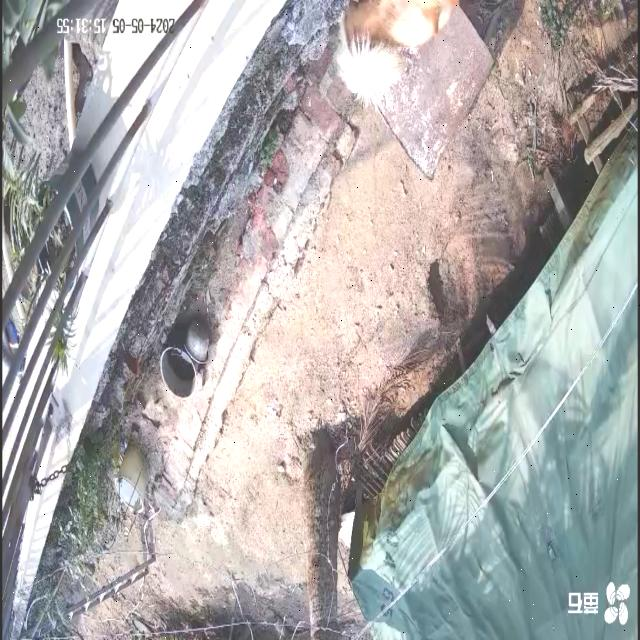dog: (337, 2, 461, 110)
